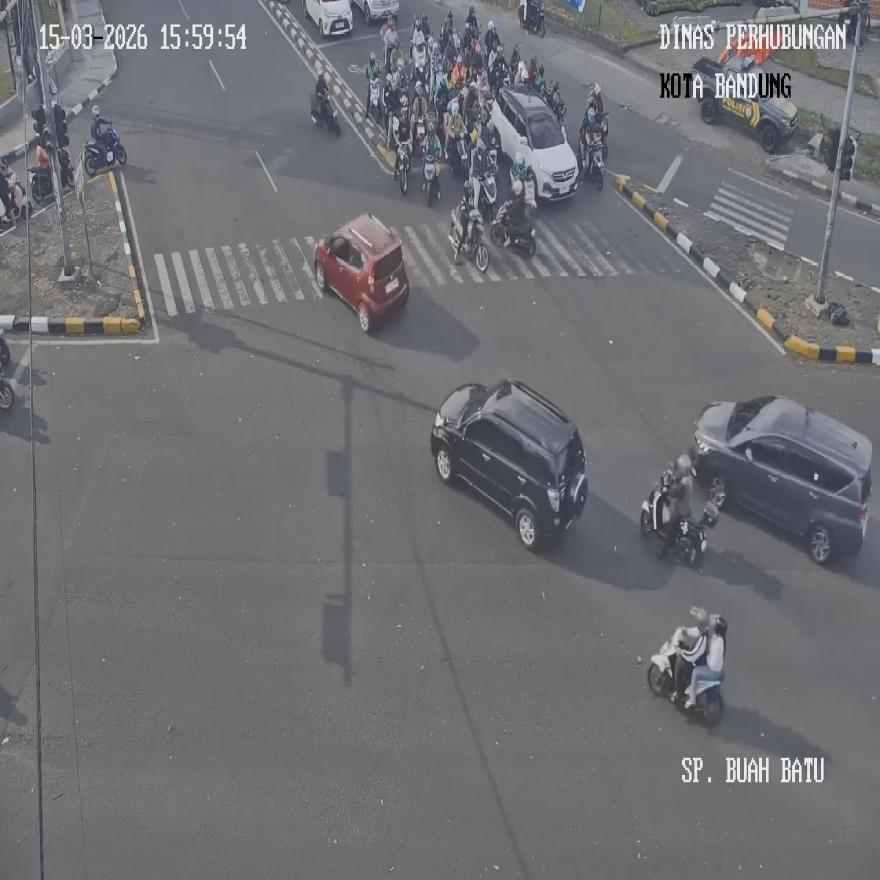Motor: (690, 394, 872, 562), (430, 379, 588, 550), (314, 212, 409, 334), (690, 48, 798, 152), (489, 82, 578, 203)
Truk: (648, 629, 724, 725), (640, 473, 706, 566), (449, 200, 488, 272), (490, 198, 536, 254), (28, 149, 74, 205), (83, 125, 126, 176), (0, 164, 27, 226), (509, 153, 536, 209), (578, 130, 604, 188), (309, 92, 341, 136), (448, 127, 470, 180), (475, 171, 496, 221), (393, 138, 411, 193), (545, 81, 566, 127), (424, 150, 441, 206), (518, 0, 545, 35), (367, 74, 382, 124)
